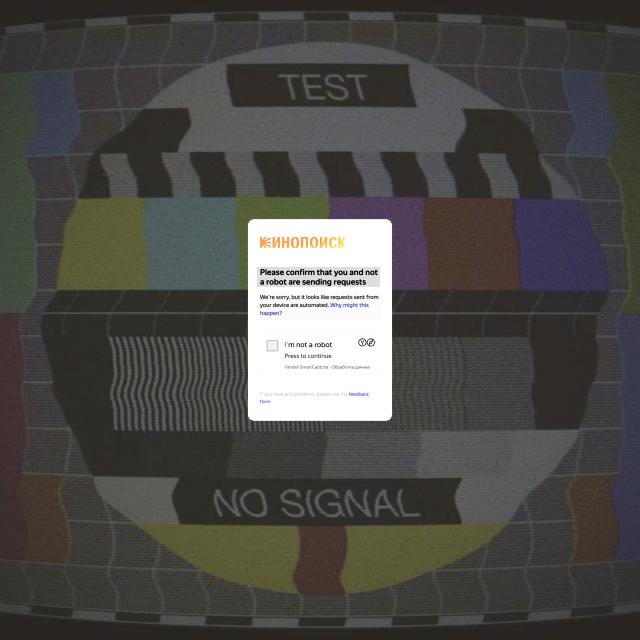CheckBox: (266, 340, 279, 352)
Input field: (256, 291, 382, 320)
date picker: (255, 234, 347, 252)
header: (248, 218, 392, 421)
image: (257, 267, 380, 287)
